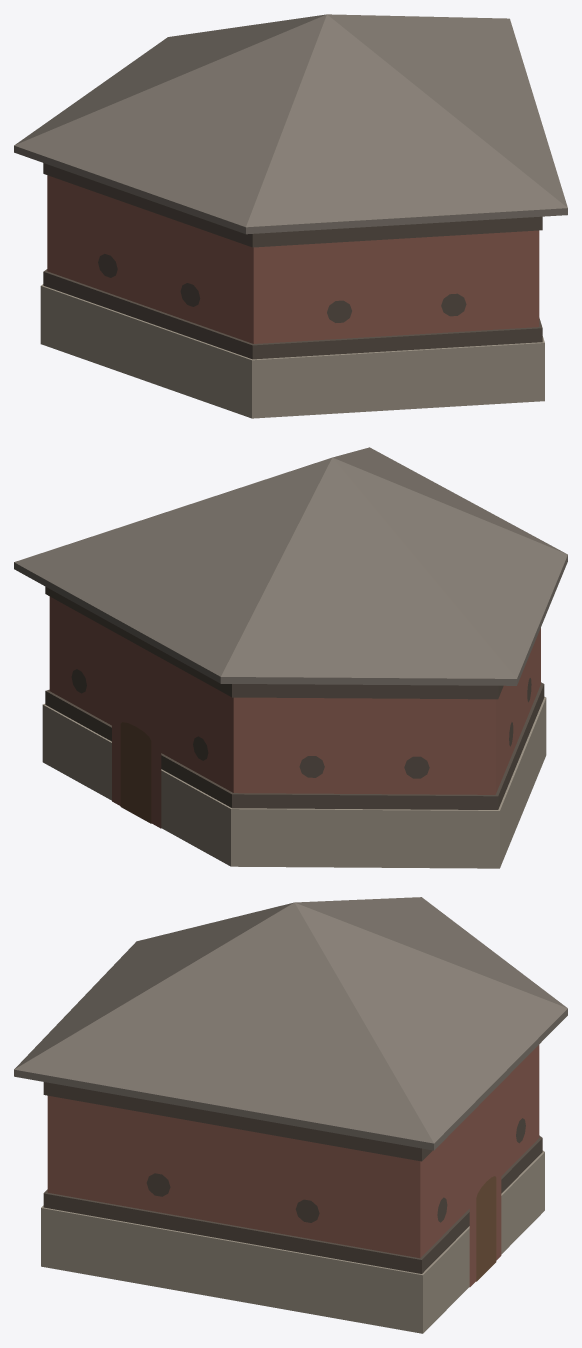
Rendered from pit-fort-pitt-block-house.glb.
3 renders of one model, top to bottom at view 1: azimuth 30°, elevation 25°; view 2: azimuth 150°, elevation 25°; view 3: azimuth 270°, elevation 25°, orthographic.
Visible parts, largest first — view 1: Fort Pitt Block House; view 2: Fort Pitt Block House; view 3: Fort Pitt Block House.
Boxes of the visible parts, x1,y1,x2,y2 form: Fort Pitt Block House: (14,14,567,418); Fort Pitt Block House: (14,447,567,868); Fort Pitt Block House: (14,897,567,1333).
Bounding box in the file's own units: 11.27 × 6.8 × 10.7.
